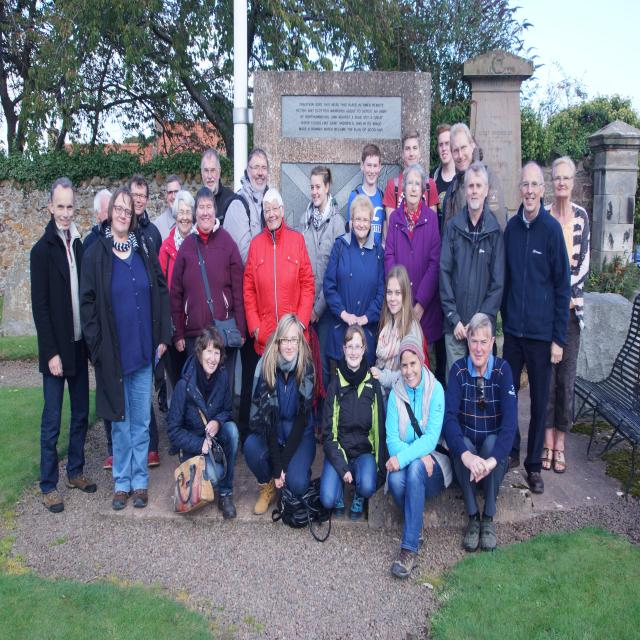body: (77, 184, 175, 514), (27, 174, 101, 516), (497, 159, 572, 496), (76, 187, 162, 474), (440, 311, 520, 553), (168, 187, 245, 409), (242, 312, 322, 517), (383, 334, 447, 583), (541, 155, 591, 473), (438, 160, 506, 392), (164, 322, 240, 524), (221, 147, 270, 455), (318, 323, 388, 523), (298, 164, 346, 445), (242, 189, 316, 363), (321, 193, 386, 385), (382, 164, 442, 371), (369, 264, 424, 422), (441, 121, 507, 250), (428, 123, 456, 392), (382, 130, 440, 230), (157, 188, 196, 332), (344, 143, 388, 251), (191, 147, 238, 230), (128, 173, 162, 258), (153, 174, 185, 244)
